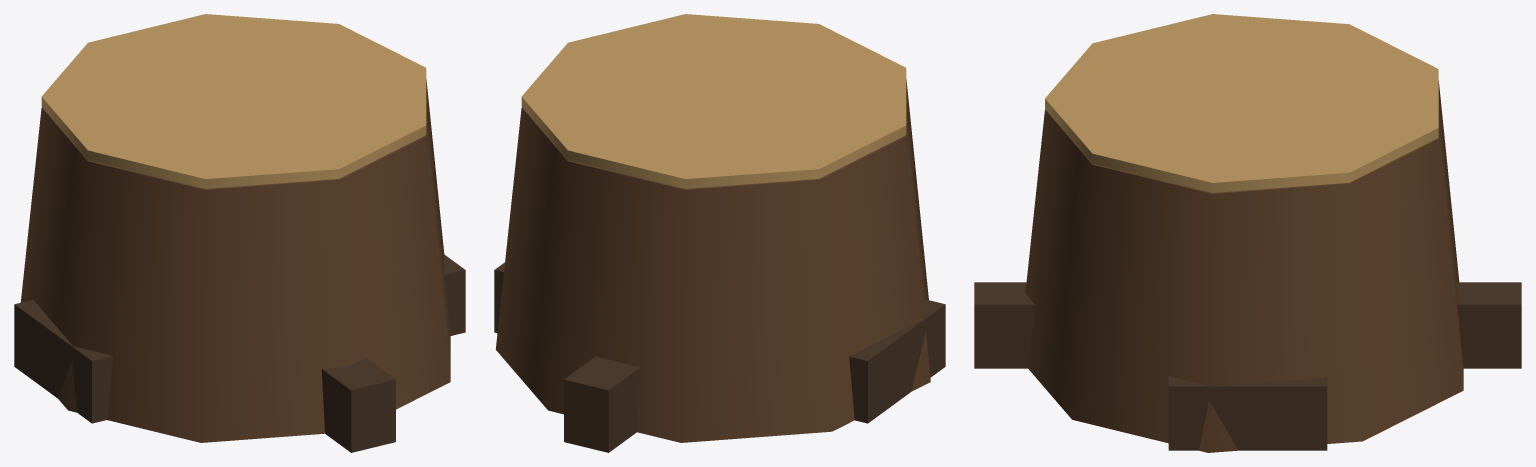
File: pine_stump.glb
3 renders of one model, left to right at view 1: azimuth 30°, elevation 25°; view 2: azimuth 150°, elevation 25°; view 3: azimuth 270°, elevation 25°, orthographic. The views are drawn at different scales.
Parts seen in each view (by area): view 1: pine_stump; view 2: pine_stump; view 3: pine_stump.
Part boxes in pixels (bbox=[...]): pine_stump: bbox=[14, 14, 465, 452]; pine_stump: bbox=[494, 14, 945, 452]; pine_stump: bbox=[974, 14, 1521, 452].
Bounding box in the file's own units: 1.02 × 0.6475 × 1.24.
